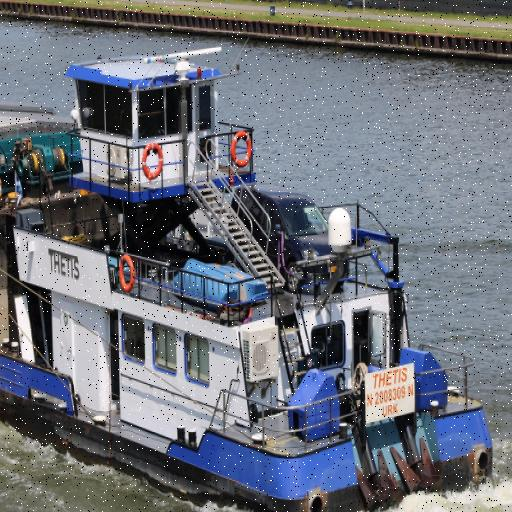tugboat: (1, 51, 500, 512)
